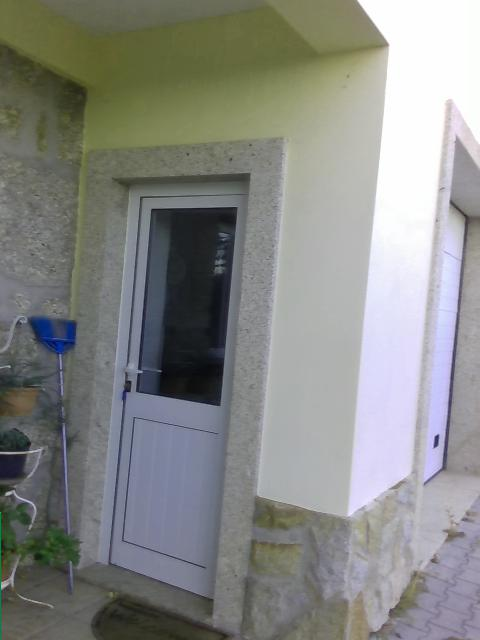closed_door: (94, 174, 248, 599)
